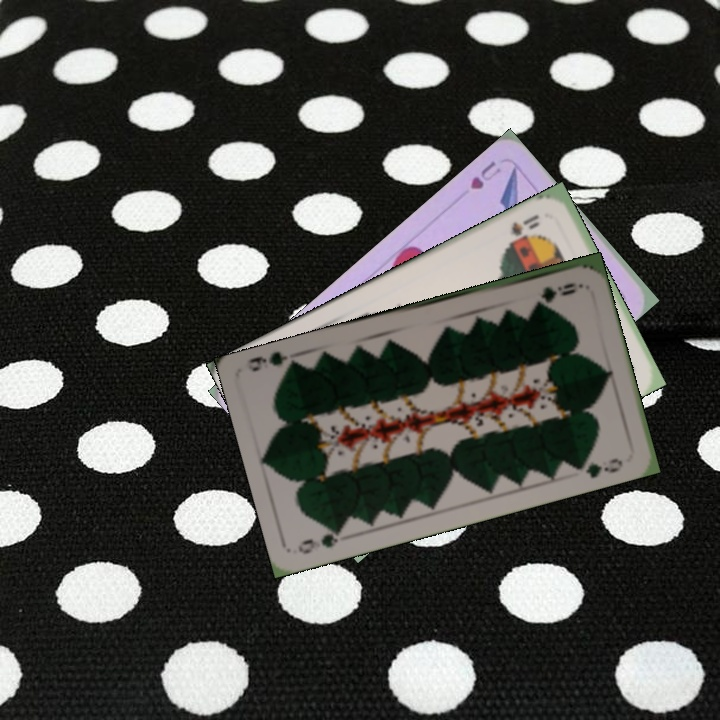G9: (294, 523, 347, 557), (529, 278, 583, 306)
HU: (466, 156, 504, 192)
SO: (504, 210, 542, 247)
